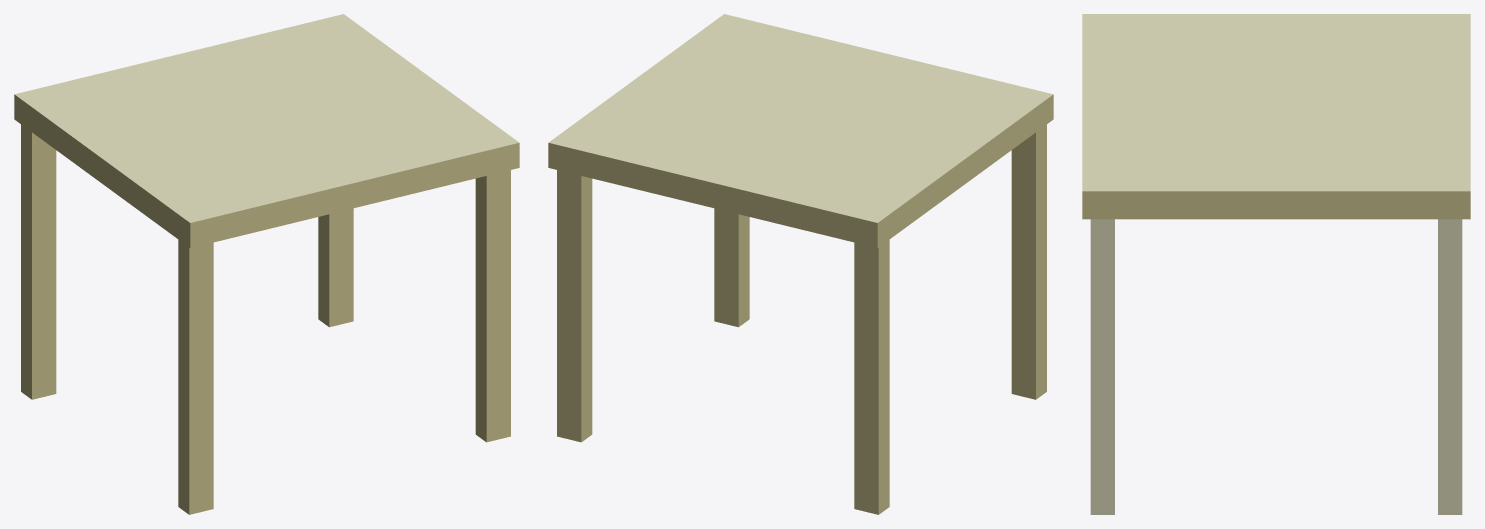
File: table_001.fbx
3 views of the same model, side by side, from view 1: azimuth 30°, elevation 25°; view 2: azimuth 150°, elevation 25°; view 3: azimuth 270°, elevation 25° (orthographic). The views are drawn at different scales.
Parts seen in each view (by area): view 1: table_001; view 2: table_001; view 3: table_001.
Part boxes in pixels (<box>): table_001: <box>14,14,519,514</box>; table_001: <box>548,14,1053,514</box>; table_001: <box>1082,14,1470,514</box>.
Size of the model in its own units: 76.46 by 65.53 by 70.72.
